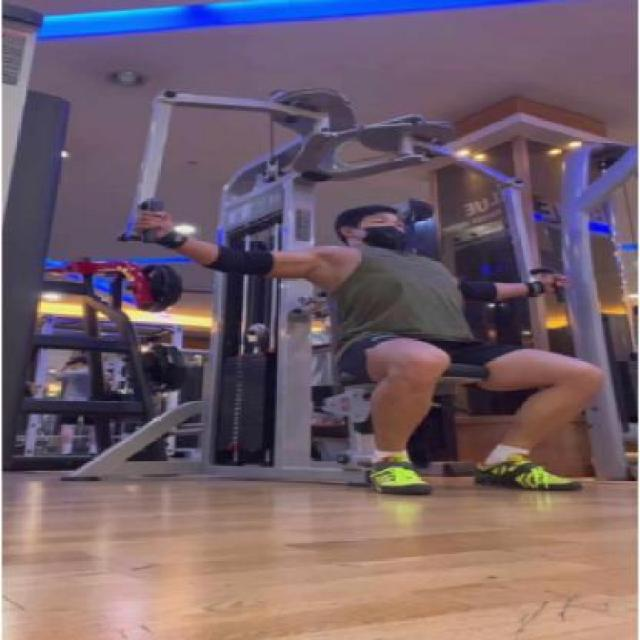chest fly machine: (52, 65, 640, 506)
